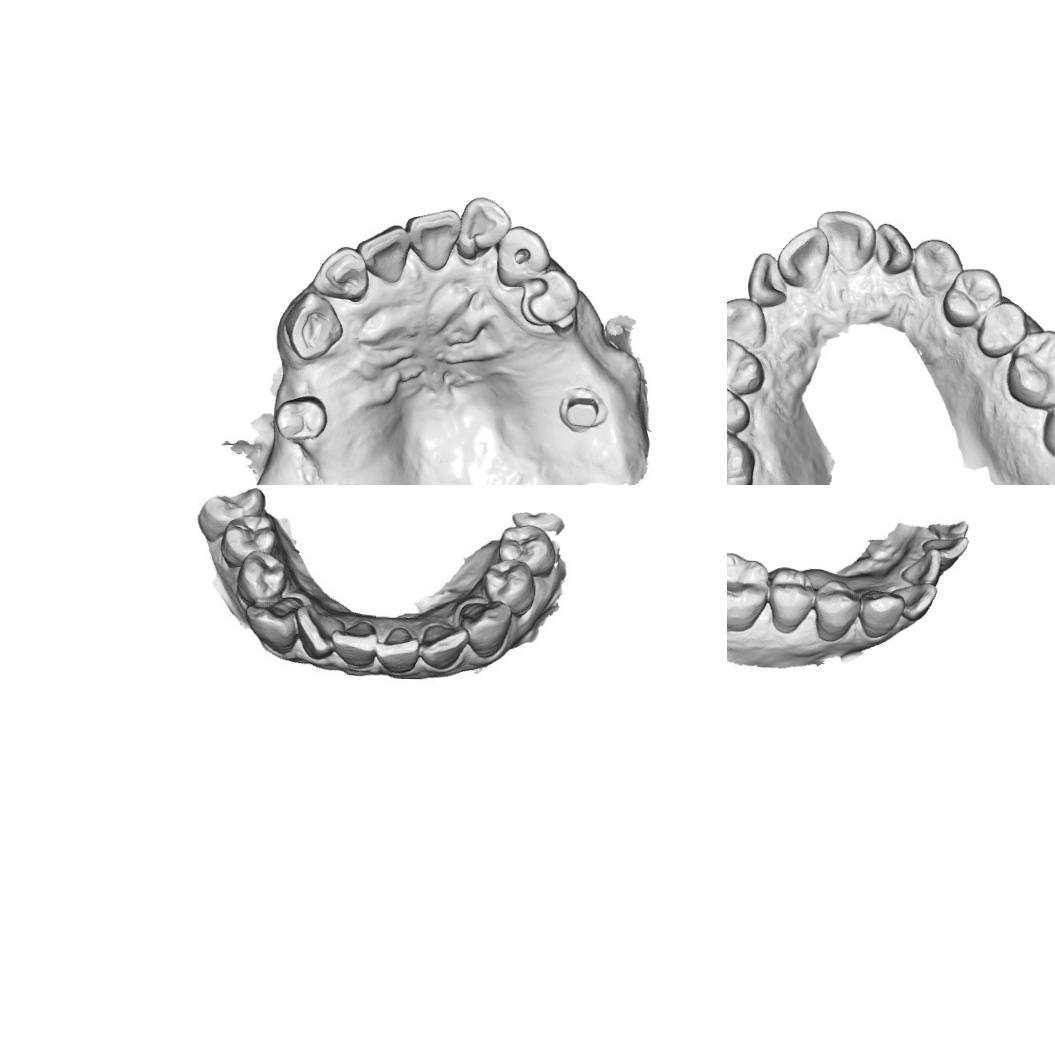abutment: (562, 392, 604, 433)
canine: (282, 290, 343, 362), (495, 225, 552, 290), (243, 595, 304, 654), (458, 599, 512, 659), (911, 237, 963, 298), (858, 588, 906, 639), (727, 298, 766, 348)
incisor: (816, 208, 876, 272), (405, 207, 462, 273), (456, 196, 512, 262), (356, 222, 411, 284), (776, 225, 828, 290), (312, 244, 370, 302), (294, 604, 347, 661), (330, 620, 379, 669), (746, 252, 788, 308), (419, 624, 470, 670), (873, 221, 914, 276), (375, 626, 420, 674), (887, 582, 938, 621), (921, 535, 970, 572), (900, 547, 942, 586)
molar: (1005, 328, 1055, 411), (727, 551, 770, 633), (727, 424, 756, 485)
premolar: (942, 267, 1004, 329), (519, 268, 580, 330), (497, 523, 557, 578), (768, 567, 816, 634), (482, 558, 536, 617), (219, 514, 276, 569), (813, 579, 862, 642), (976, 300, 1028, 359), (235, 550, 288, 606), (272, 393, 329, 444), (727, 338, 765, 395), (727, 383, 751, 432)
